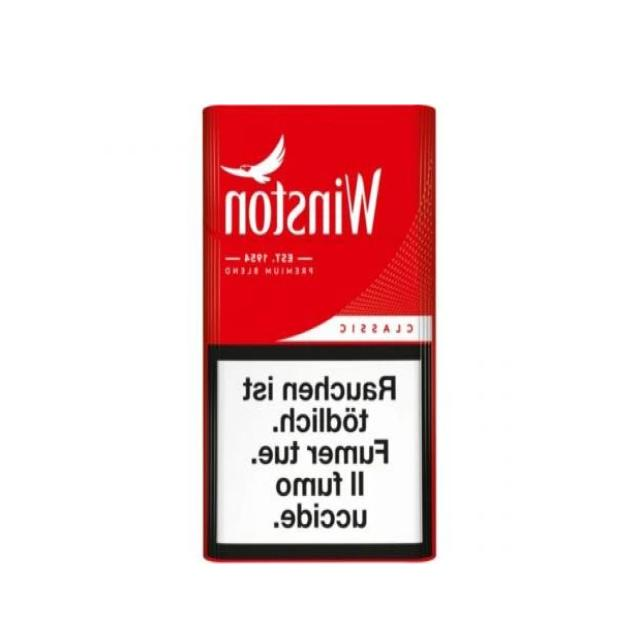winston: (202, 101, 438, 567)
